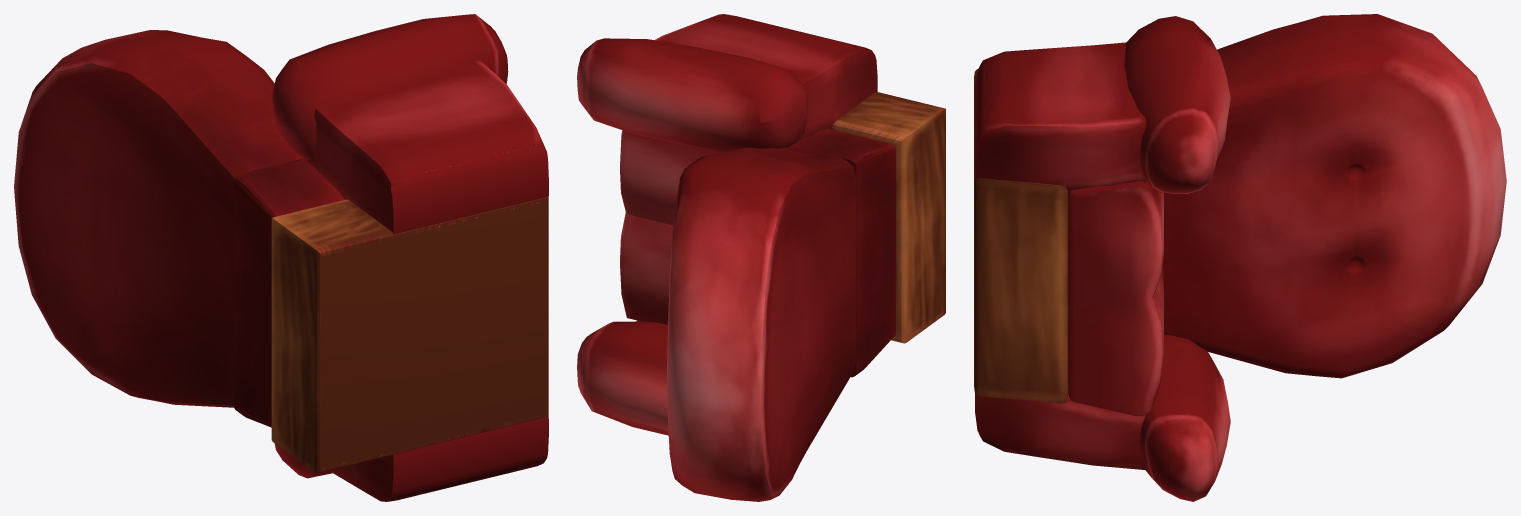
The model's file is Sillon_texturizado.FBX.
The picture shows the model from 3 angles, left to right: view 1: azimuth 30°, elevation 25°; view 2: azimuth 150°, elevation 25°; view 3: azimuth 270°, elevation 25°; orthographic projection. The views are drawn at different scales.
Parts seen in each view (by area): view 1: Sillon; view 2: Sillon; view 3: Sillon.
Part boxes in pixels (box(x1,y1,x2,y2)): Sillon: box(14, 14, 548, 501); Sillon: box(577, 14, 945, 501); Sillon: box(974, 14, 1506, 501).
Size of the model in its own units: 28.15 by 32.86 by 38.92.
Materials: 1 (1 with a texture image).
